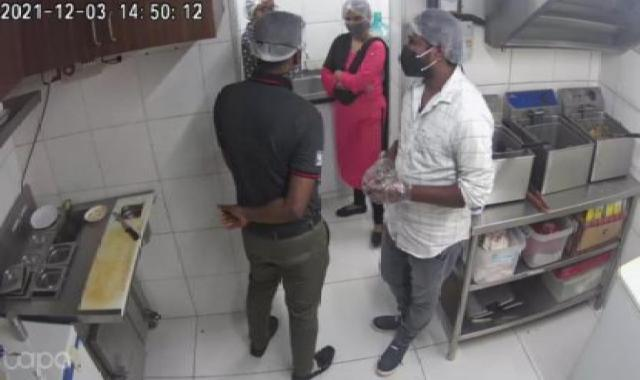hairnet: (408, 6, 478, 68), (244, 11, 318, 65), (338, 0, 388, 27), (239, 0, 274, 20)
